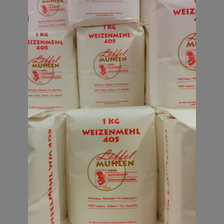flour: (65, 106, 159, 224), (140, 1, 196, 107), (75, 23, 146, 105), (28, 26, 78, 108)
